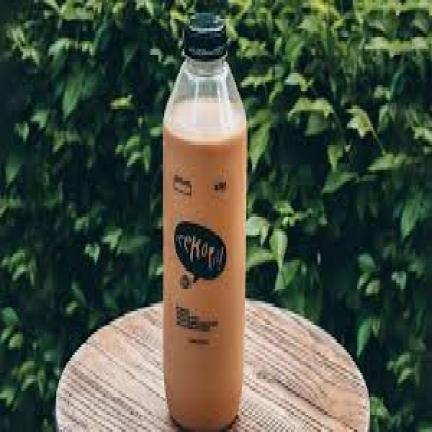container: (163, 15, 246, 429)
fluid: (163, 126, 245, 429)
fluid-surface: (163, 28, 245, 429), (163, 90, 246, 141)
